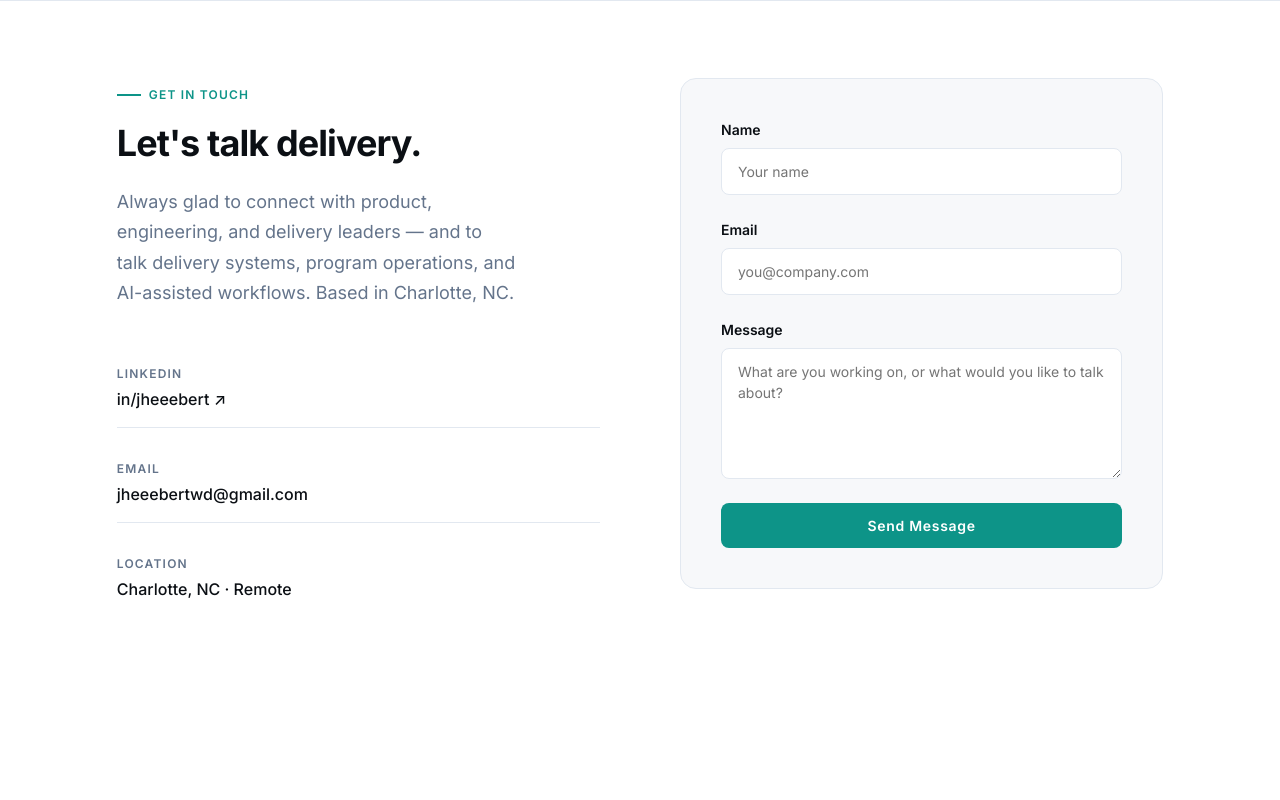
it: Contact form › clears field error when user corrects input
The image size is (1280, 800).
Click the button "Send Message": coordinates (922, 525) [721,503,1122,548]
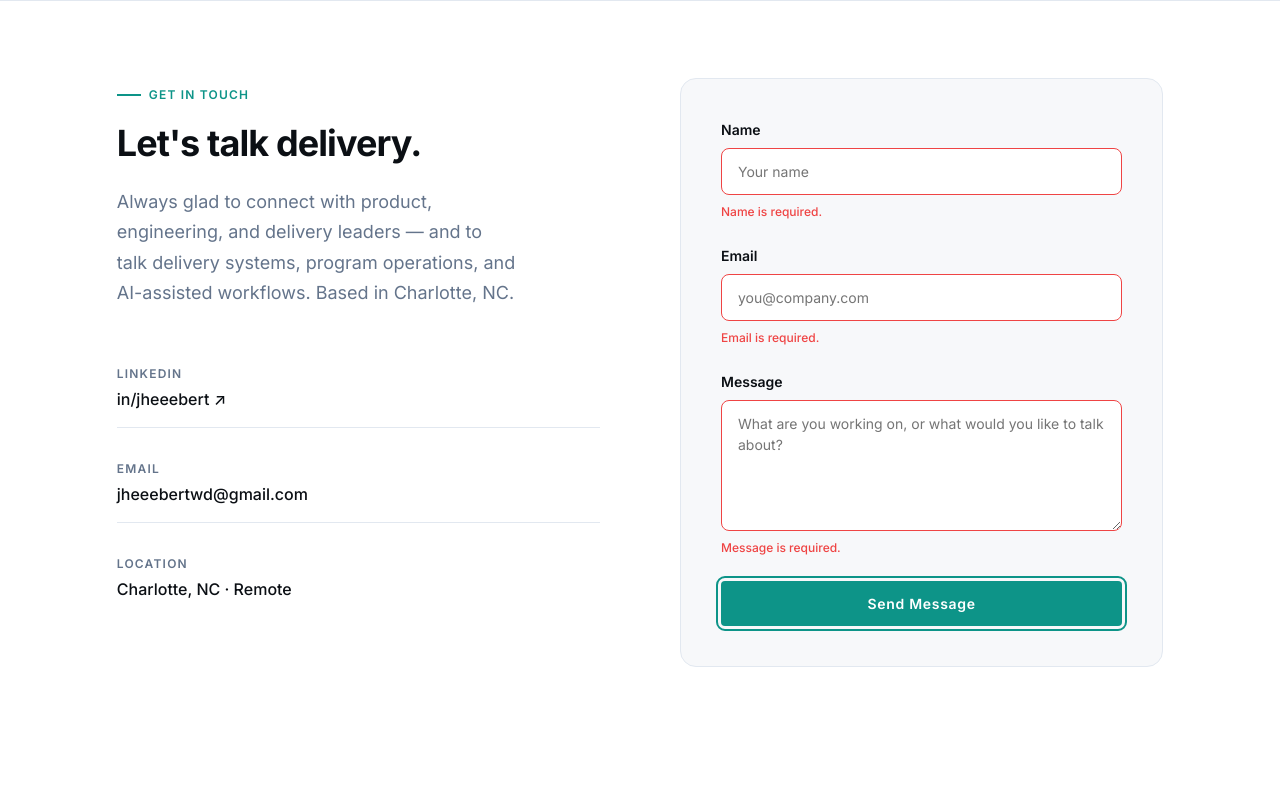
Now the text "Name is required." is shown, box [721,204,822,219]
In the field labelled "Name": coordinates (922, 171) [721,148,1122,195], type "Joshua"
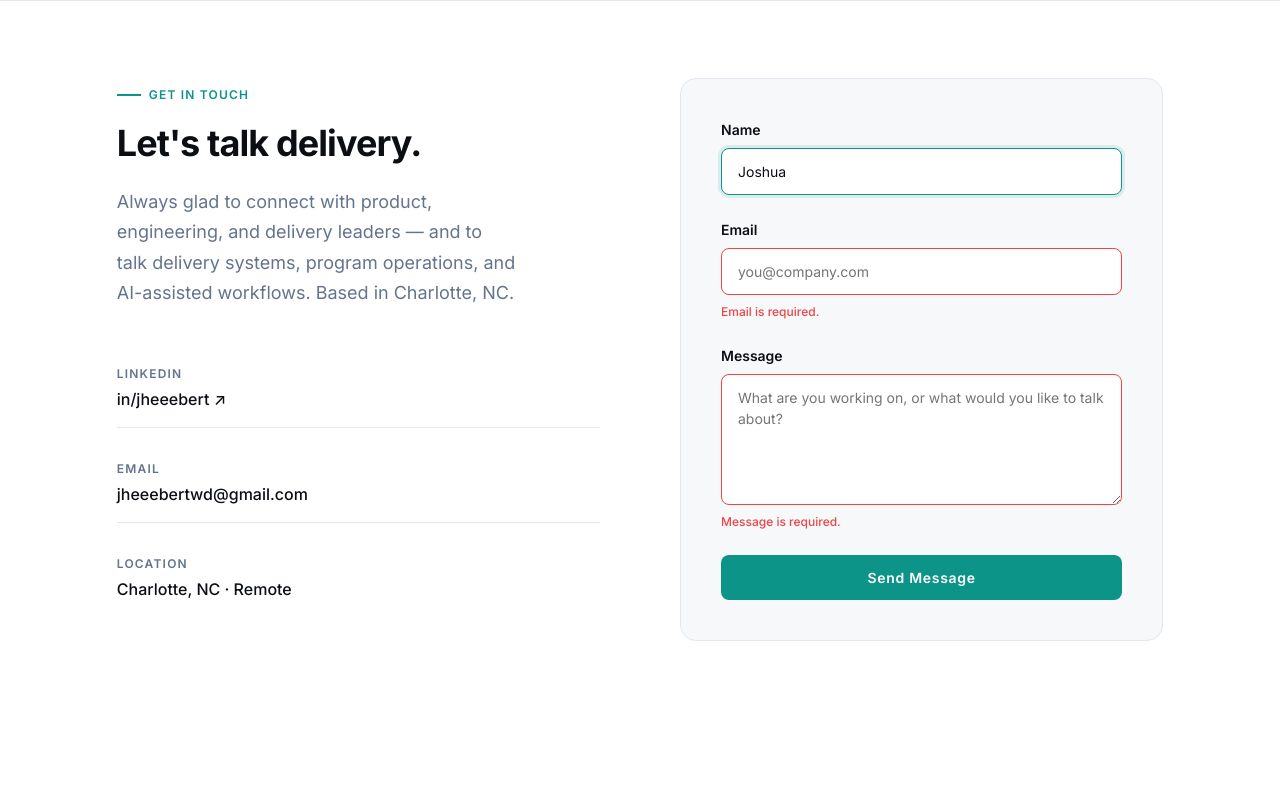
Now the text "Name is required" is gone
